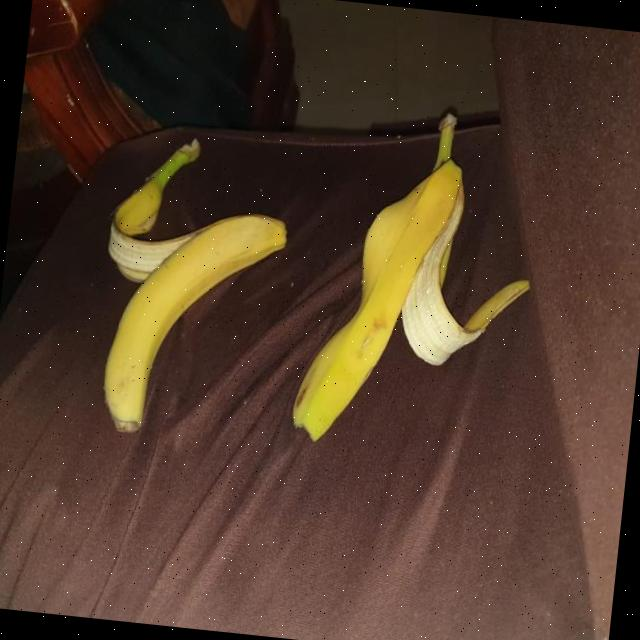banana-peel: (286, 95, 546, 463), (95, 196, 289, 447)
